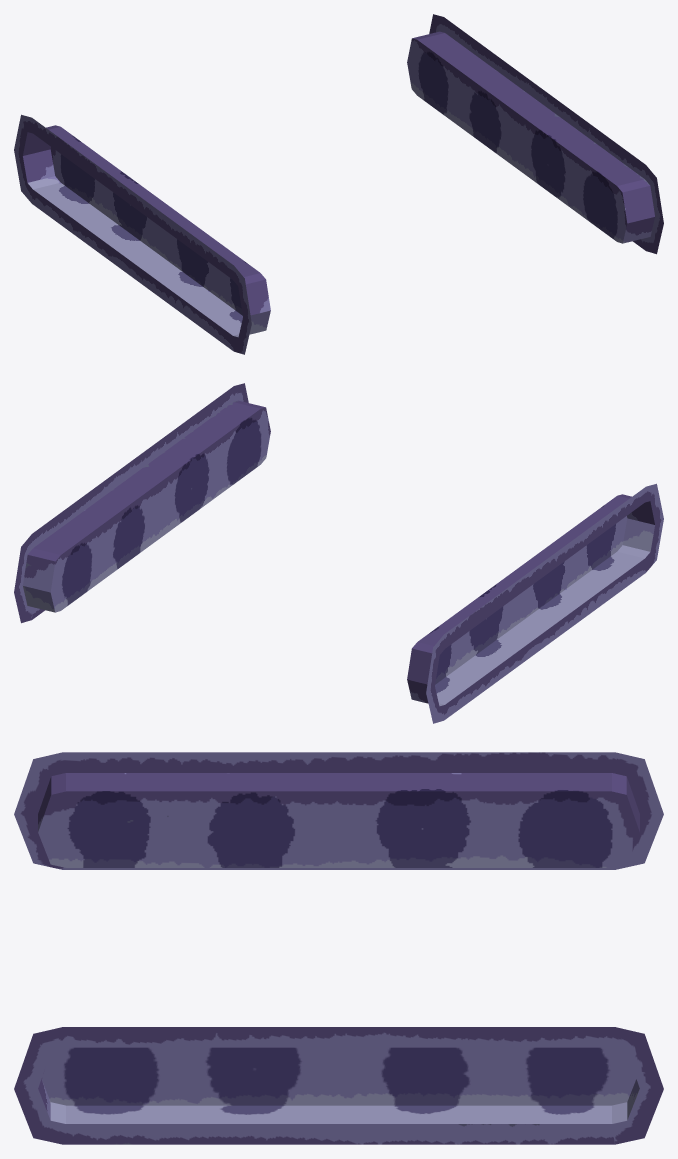
The model's file is Conveyor Belt non-belt non-wheels model.fbx.
3 views of the same model, one above another, from view 1: azimuth 30°, elevation 25°; view 2: azimuth 150°, elevation 25°; view 3: azimuth 270°, elevation 25° (orthographic). The views are drawn at different scales.
Visible parts, largest first — view 1: Box001; view 2: Box001; view 3: Box001.
Part boxes in pixels (box(x1,y1,x2,y2)): Box001: box(14, 14, 663, 354); Box001: box(14, 383, 663, 723); Box001: box(14, 752, 663, 1144).
Bounding box in the file's own units: 39.37 × 7.87 × 39.37.
1 material, 1 textured.
